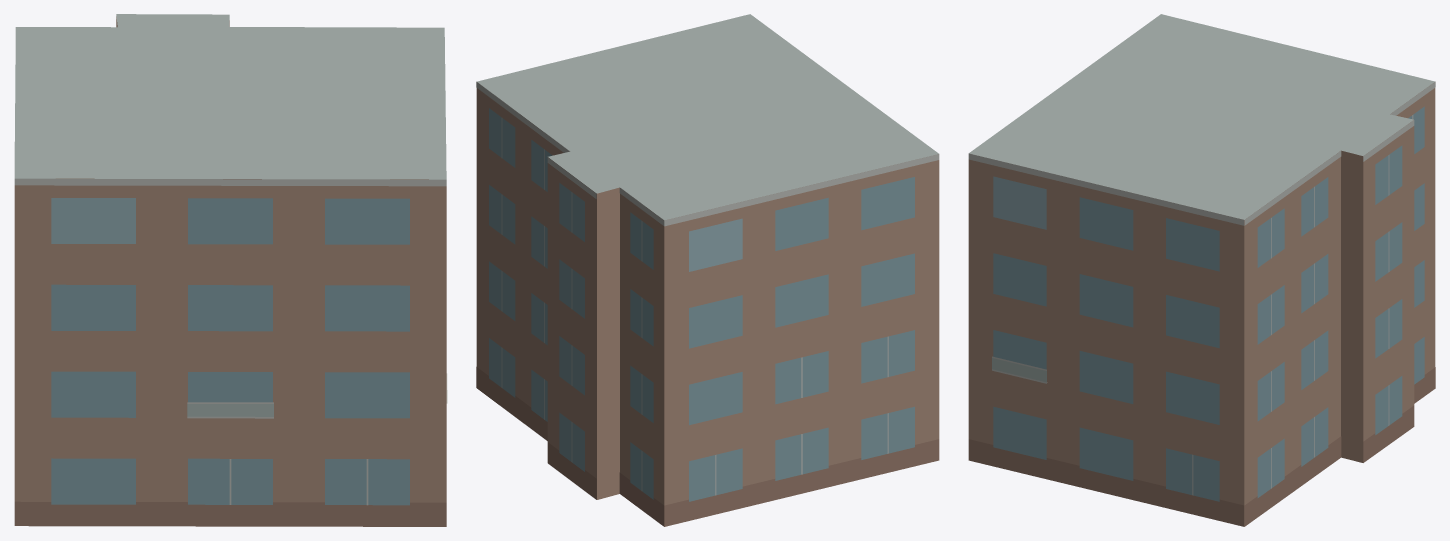
The model's file is survey-upis-32722096.glb.
3 views of the same model, side by side, from view 1: azimuth 30°, elevation 25°; view 2: azimuth 150°, elevation 25°; view 3: azimuth 270°, elevation 25° (orthographic). The views are drawn at different scales.
Visible parts, largest first — view 1: survey-upis-32722096.tmp; view 2: survey-upis-32722096.tmp; view 3: survey-upis-32722096.tmp.
Boxes of the visible parts, box(x1,y1,x2,y2) form: survey-upis-32722096.tmp: box(14, 14, 447, 526); survey-upis-32722096.tmp: box(476, 14, 939, 526); survey-upis-32722096.tmp: box(968, 14, 1435, 526).
Bounding box in the file's own units: 17.99 × 12.5 × 17.23.
